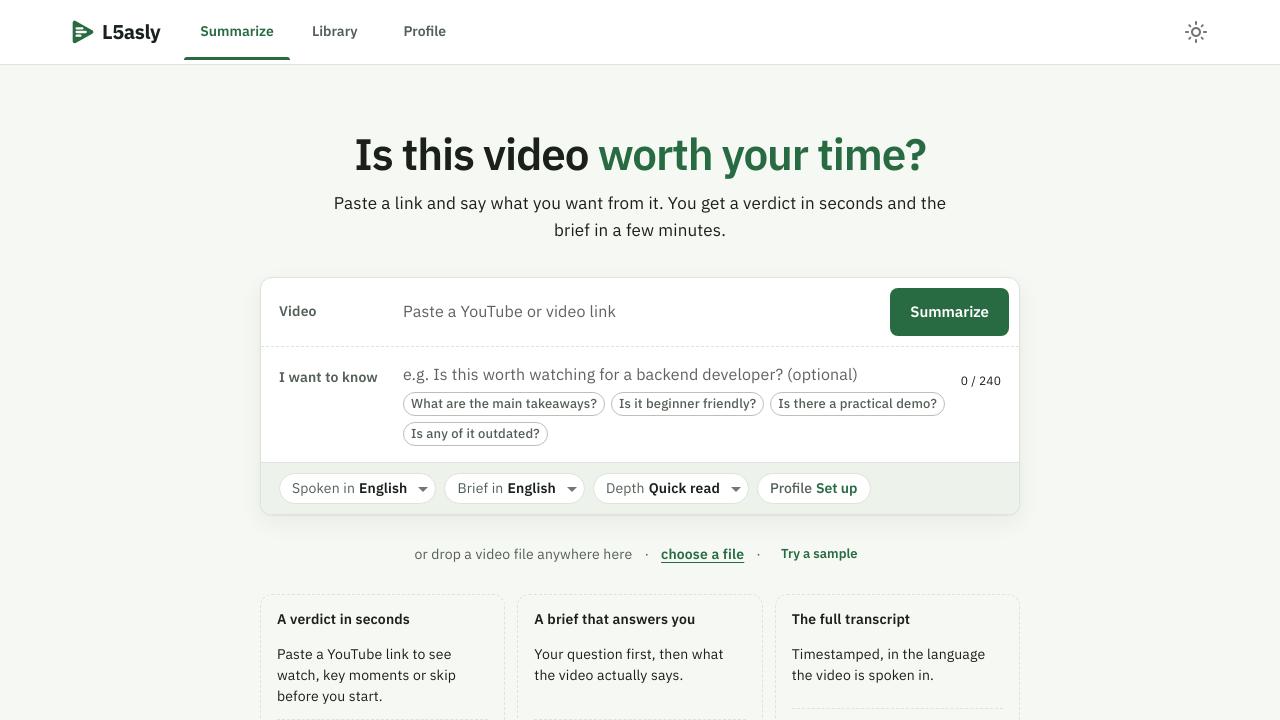
App › renders the summary workflow and navigates between pages
Expected: the heading "Is this video worth your time?" is shown, [320,129,960,178]
Expected: the button "Summarize" is shown, [890,288,1009,336]
Click the tab "Library" at (335, 31), box [312,22,358,40]
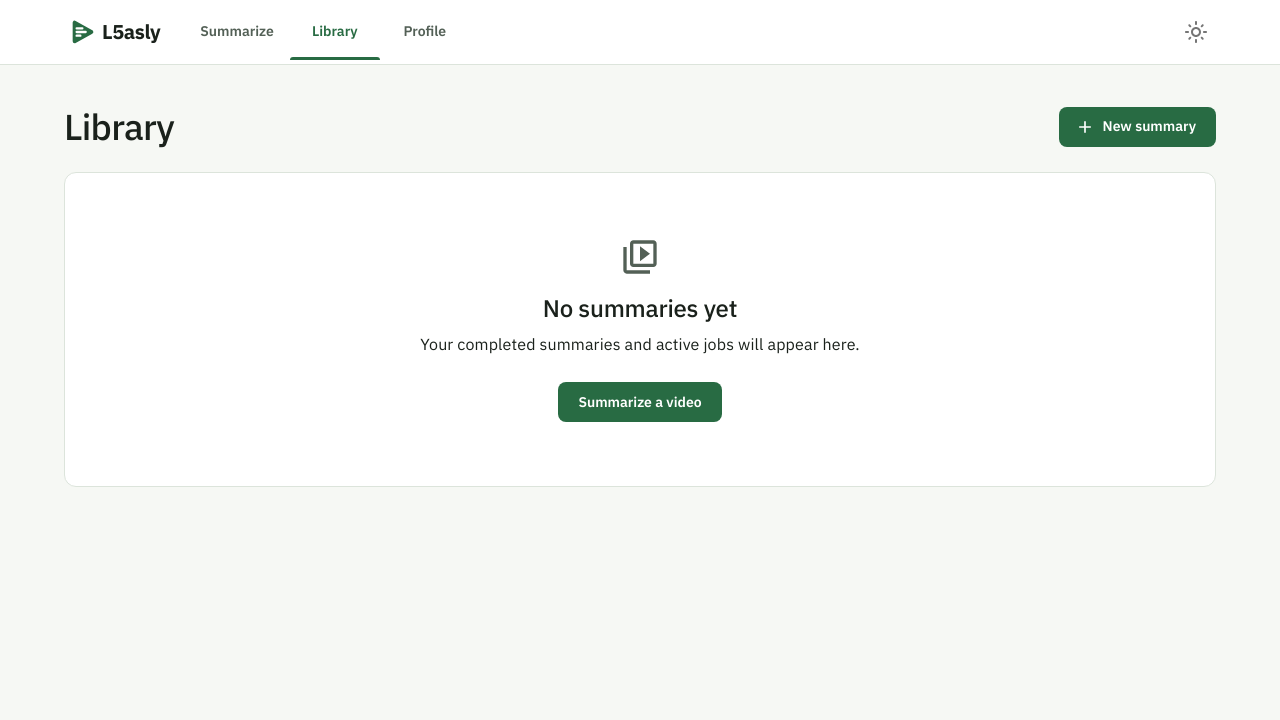
Now the heading "Library" is shown, box [64,105,174,148]
Now the heading "No summaries yet" is shown, box [543,292,737,324]
Click the tab "Summarize" at (237, 31), box [200,22,274,40]
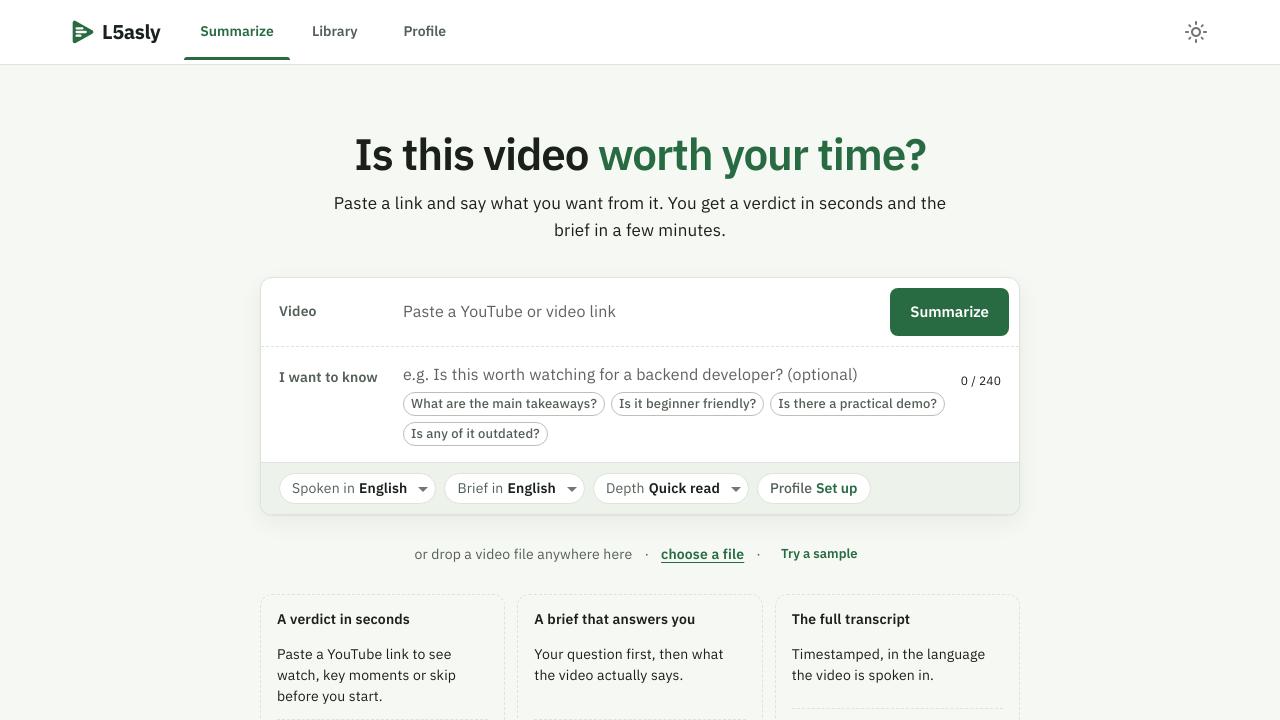
Now the heading "Is this video worth your time?" is shown, box [320,129,960,178]
